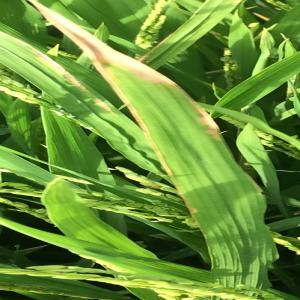Bacterial_Blight: (121, 60, 215, 217)
